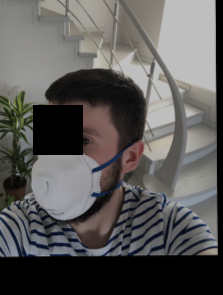with_mask: (30, 116, 111, 226)
